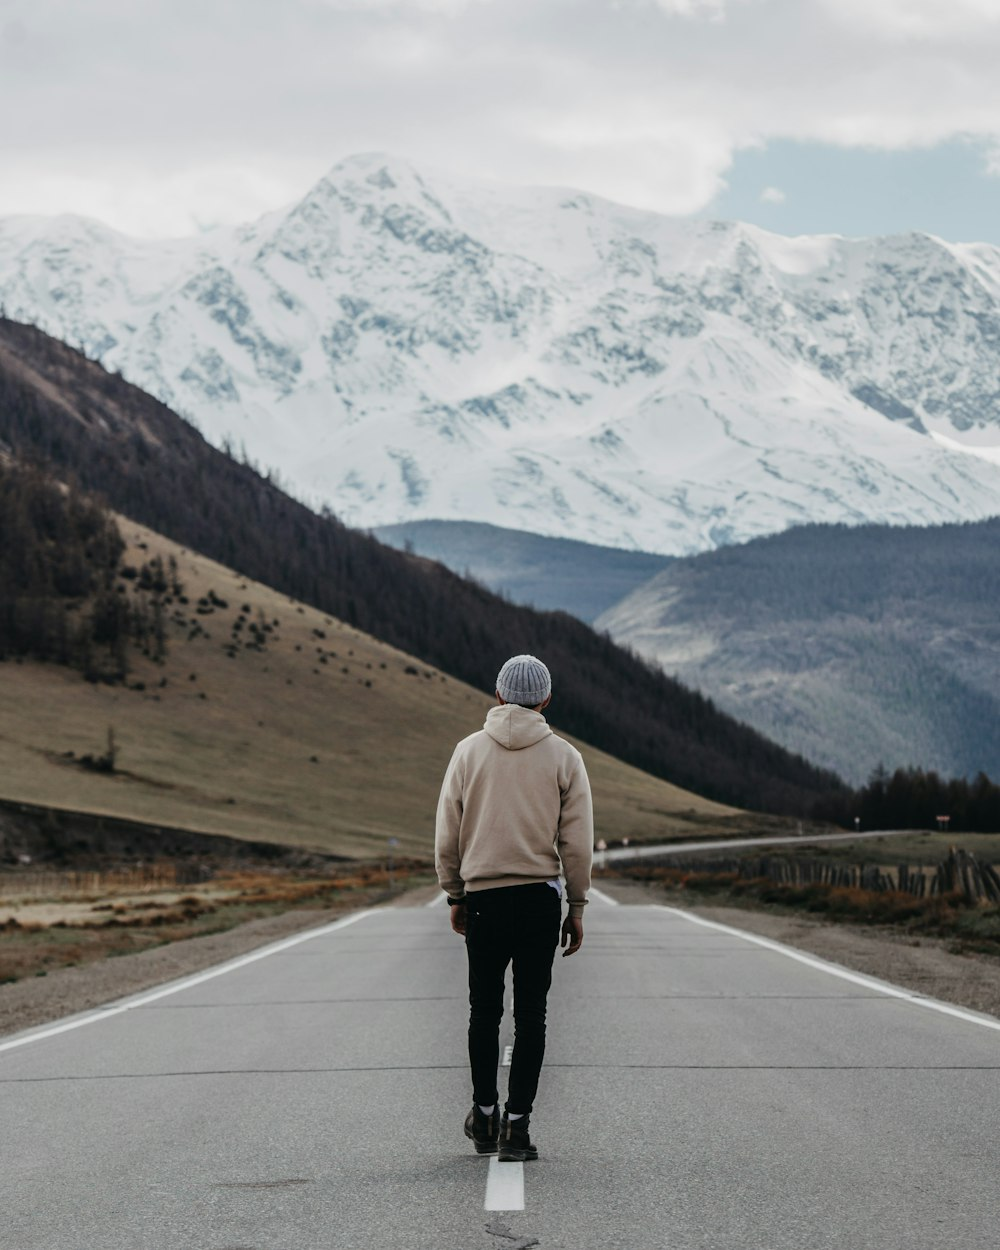person: (433, 649, 598, 1161)
